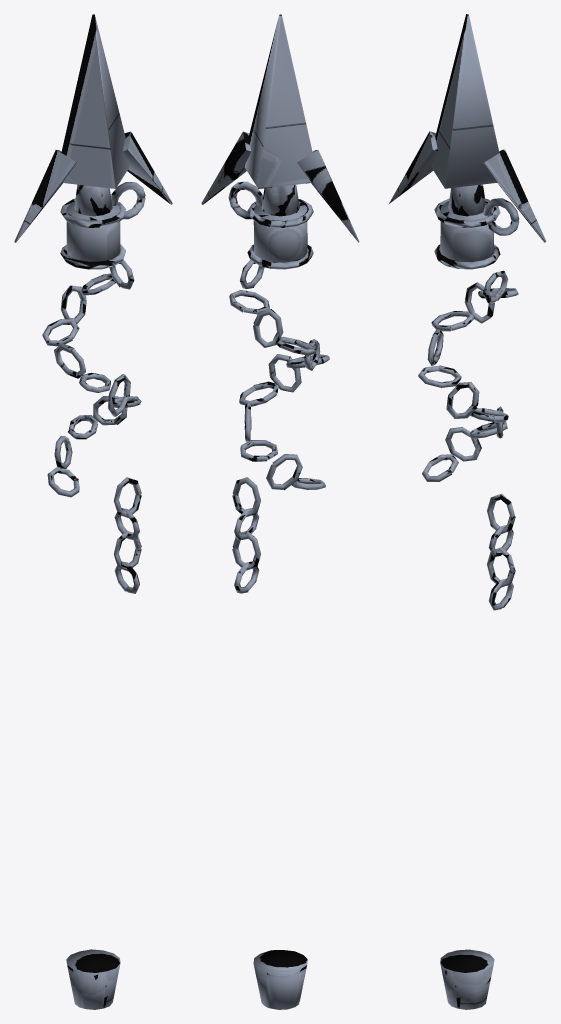
Rendered from Albatros_Baston_Acero.fbx.
3 renders of one model, left to right at view 1: azimuth 30°, elevation 25°; view 2: azimuth 150°, elevation 25°; view 3: azimuth 330°, elevation 25°, orthographic.
Visible parts, largest first — view 1: Albatros_Baston_Acero; view 2: Albatros_Baston_Acero; view 3: Albatros_Baston_Acero.
Boxes of the visible parts, x1,y1,x2,y2 form: Albatros_Baston_Acero: [14, 14, 172, 1009]; Albatros_Baston_Acero: [201, 14, 359, 1009]; Albatros_Baston_Acero: [388, 14, 546, 1009].
Size of the model in its own units: 0.9939 by 5.94 by 0.5453.
